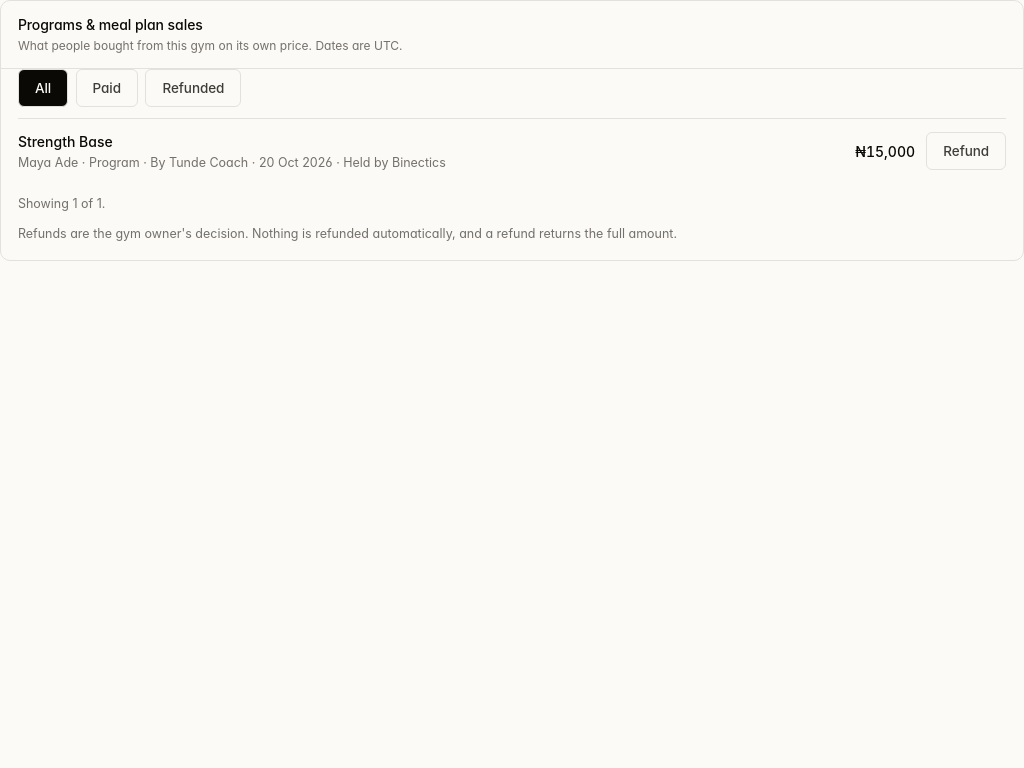
OrgContentSalesSection › marks a requested (platform-held) refund on the row
Expected: the text "Maya Ade" is shown, x1=18 y1=154 x2=333 y2=170
Click the button with aria-label "Refund Maya Ade": (966, 151) x1=926 y1=132 x2=1006 y2=170
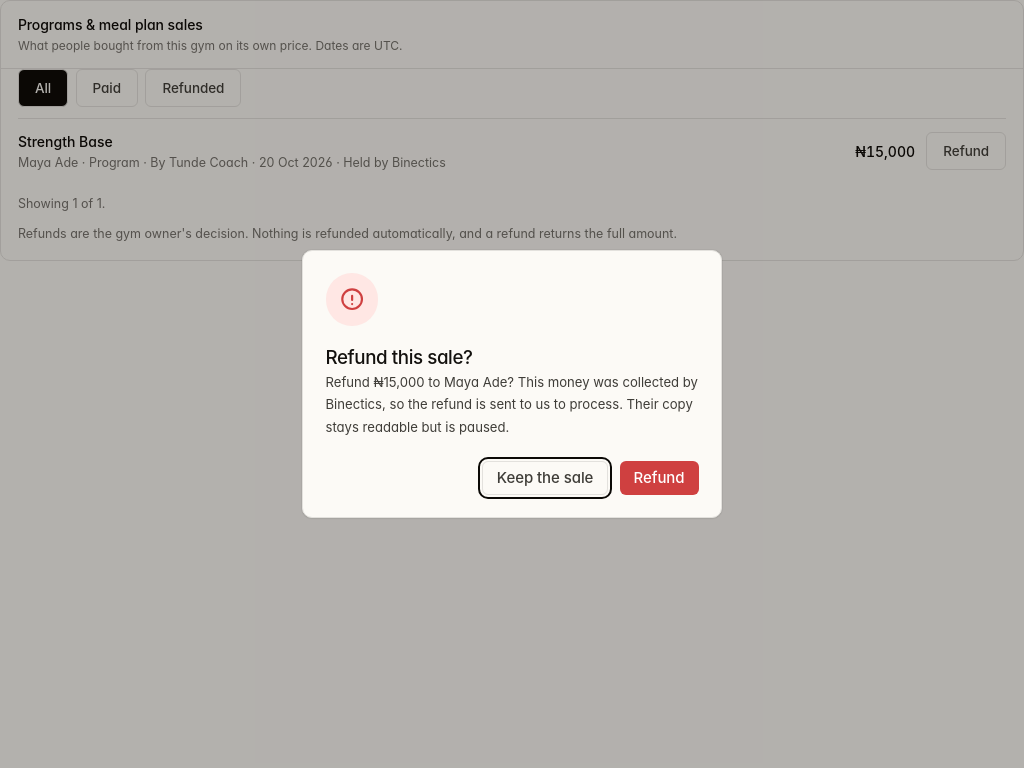
Click the button "Refund": (659, 478) x1=620 y1=461 x2=698 y2=495
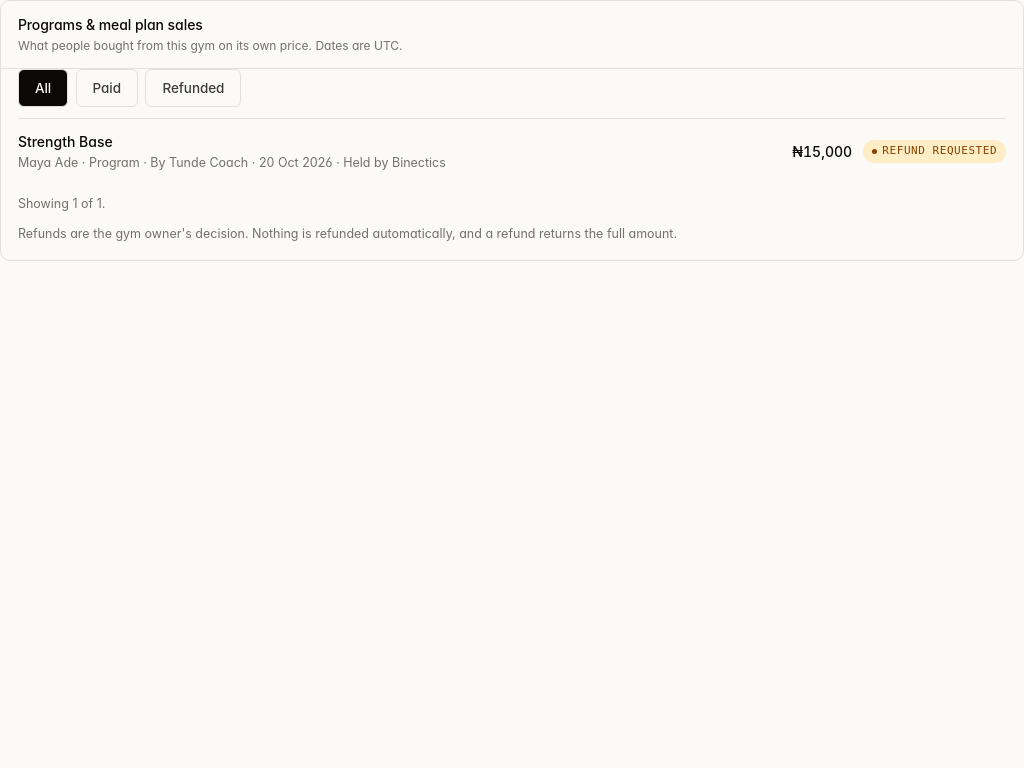
Now the text "Refund requested" is shown, box x1=863 y1=140 x2=1006 y2=163
